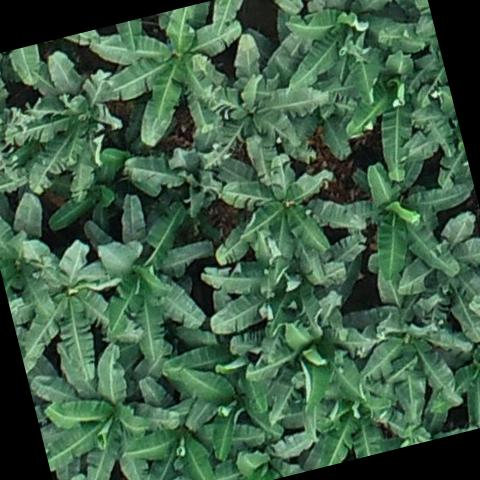Banana-plant: (170, 24, 346, 200), (198, 136, 376, 305), (80, 184, 236, 370), (82, 1, 264, 157), (0, 229, 151, 394), (25, 334, 194, 480), (329, 139, 480, 296), (0, 43, 139, 212), (239, 286, 386, 444), (255, 0, 437, 122), (329, 41, 468, 188), (349, 285, 480, 431), (119, 359, 275, 480), (196, 238, 348, 356), (175, 336, 291, 467), (295, 360, 432, 468), (385, 201, 480, 355), (0, 189, 70, 323), (419, 327, 480, 436), (0, 55, 49, 185)
